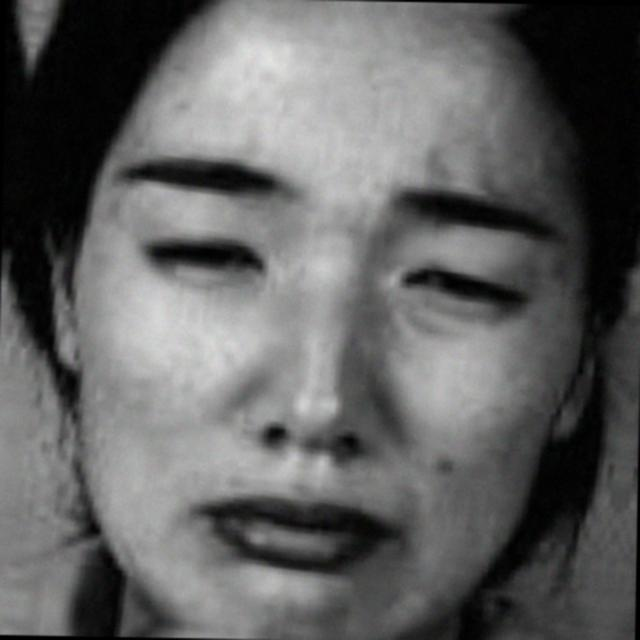sad: (66, 98, 568, 630)
